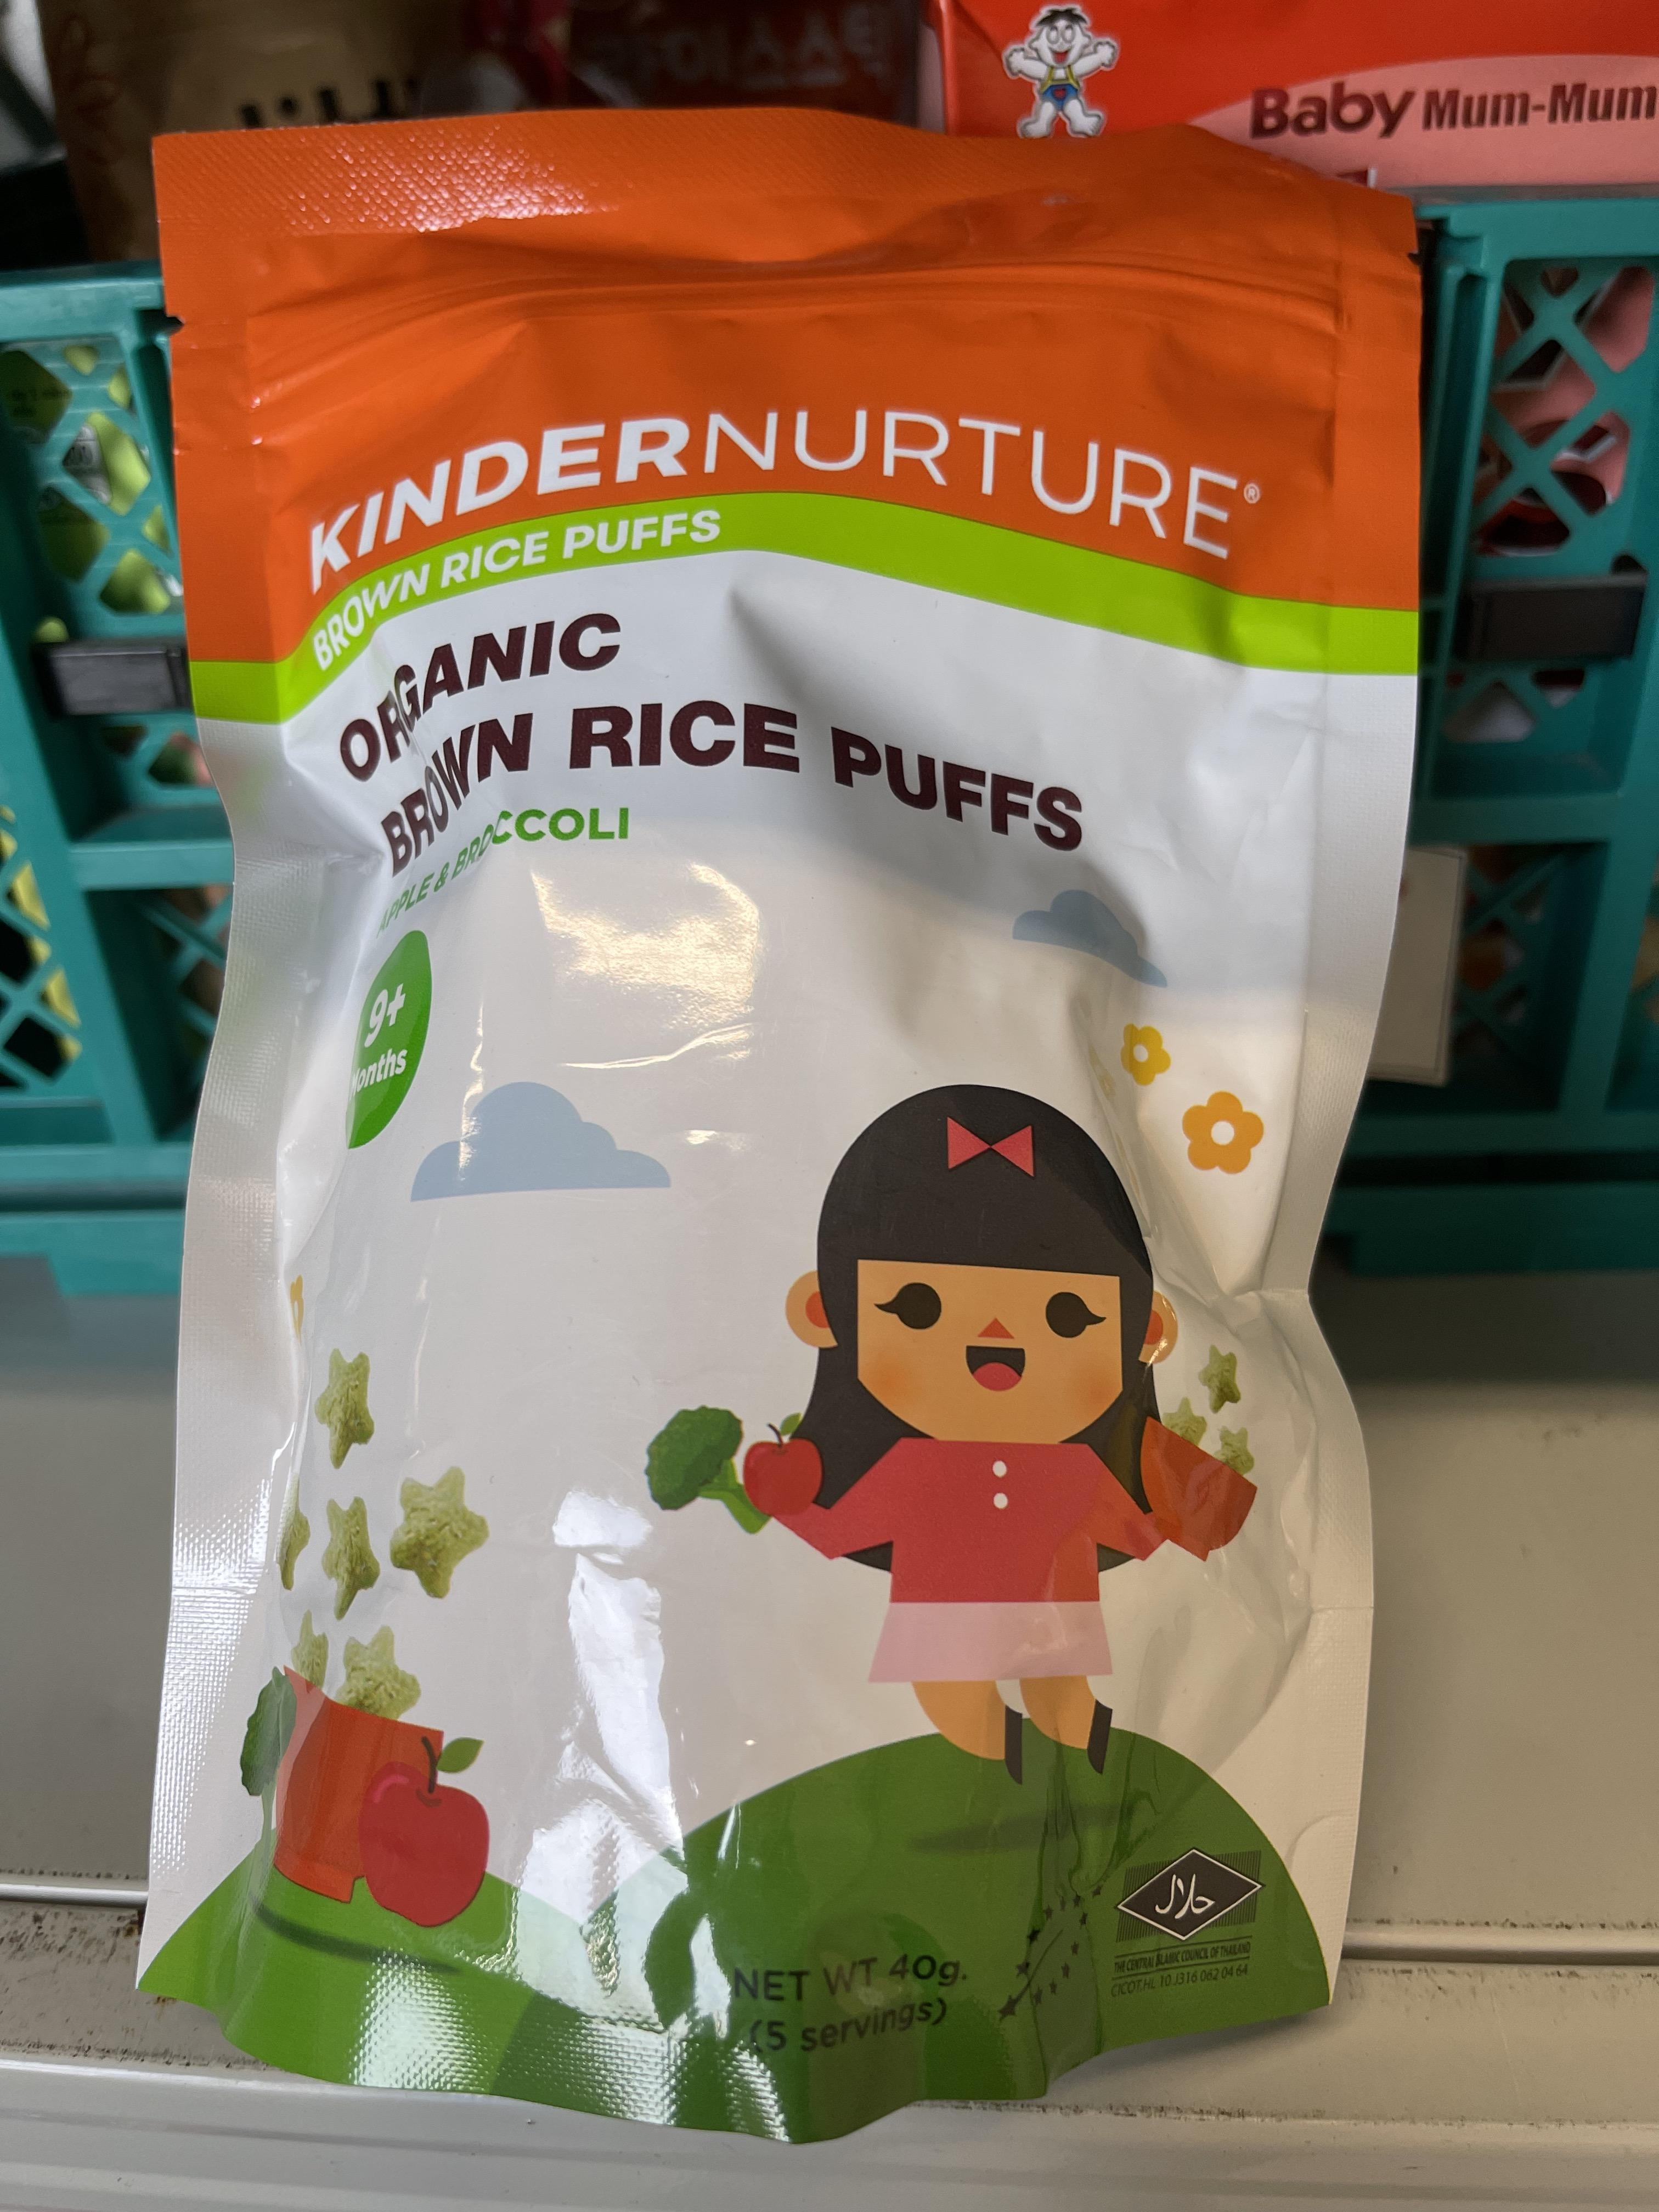object_name: (125, 202, 1405, 2151)
